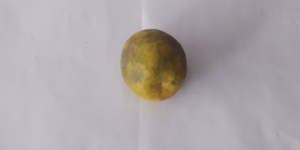BAD: (118, 30, 192, 103)
